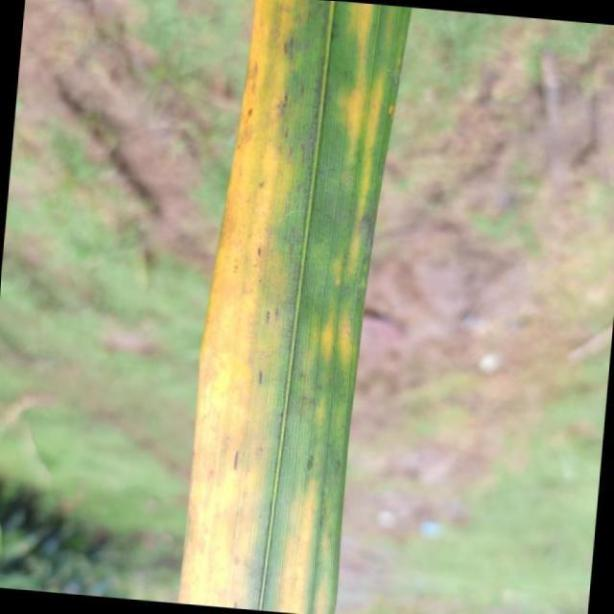Megnesium: (179, 0, 413, 614)
